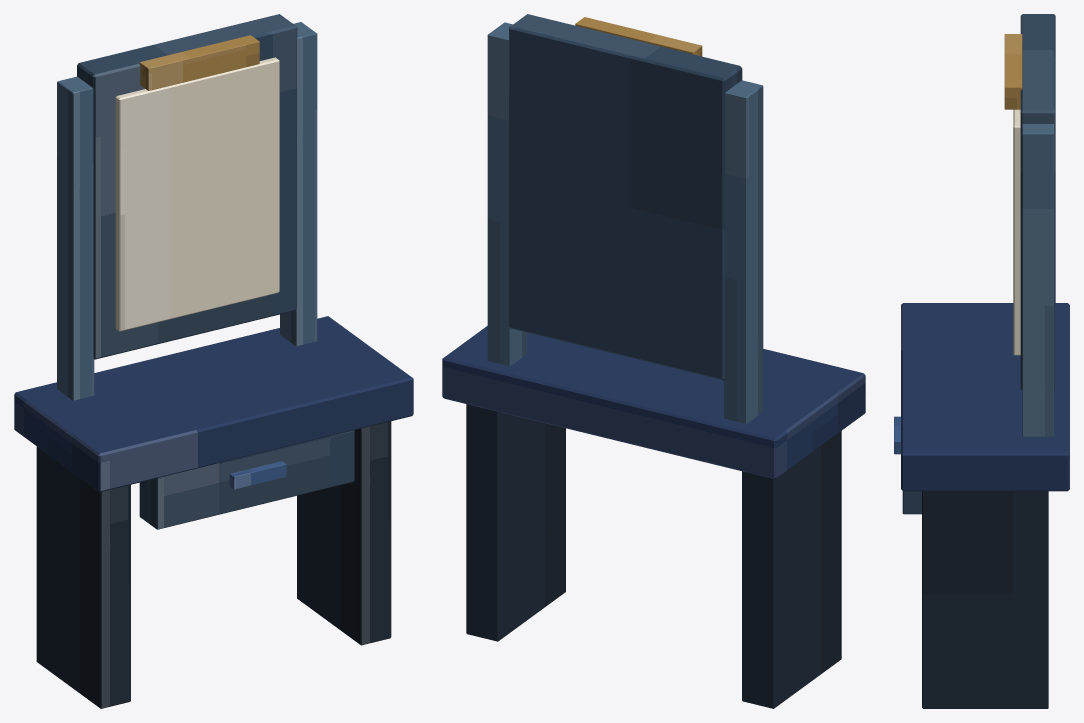
The model's file is bedroom_vanity_navy.glb.
The picture shows the model from 3 angles, left to right: view 1: azimuth 30°, elevation 25°; view 2: azimuth 150°, elevation 25°; view 3: azimuth 270°, elevation 25°; orthographic projection. The views are drawn at different scales.
Visible parts, largest first — view 1: VanityTop, VanityMirrorGlass, VanityLeg_L, VanityMirrorBack, VanityLeg_R, MirrorPost_L, VanityDrawer, MirrorPost_R, VanityAccent, VanityHandle; view 2: VanityMirrorBack, VanityTop, VanityLeg_L, VanityLeg_R, MirrorPost_L, MirrorPost_R, VanityAccent; view 3: VanityLeg_R, VanityTop, MirrorPost_R, VanityMirrorBack, VanityMirrorGlass, VanityAccent, VanityDrawer.
Part boxes in pixels (<box>): VanityTop: <box>14,316,413,492</box>; VanityMirrorGlass: <box>115,57,279,331</box>; VanityLeg_L: <box>36,446,130,708</box>; VanityMirrorBack: <box>77,14,297,359</box>; VanityLeg_R: <box>297,421,391,645</box>; MirrorPost_L: <box>57,76,94,400</box>; VanityDrawer: <box>139,430,354,529</box>; MirrorPost_R: <box>280,22,317,346</box>; VanityAccent: <box>139,35,259,90</box>; VanityHandle: <box>229,461,286,489</box>; VanityMirrorBack: <box>509,14,742,380</box>; VanityTop: <box>442,326,865,479</box>; VanityLeg_L: <box>742,431,841,708</box>; VanityLeg_R: <box>466,404,565,641</box>; MirrorPost_L: <box>724,80,763,423</box>; MirrorPost_R: <box>487,22,526,365</box>; VanityAccent: <box>575,17,702,56</box>; VanityLeg_R: <box>922,491,1048,708</box>; VanityTop: <box>901,303,1069,491</box>; MirrorPost_R: <box>1022,124,1053,436</box>; VanityMirrorBack: <box>1020,14,1055,390</box>; VanityMirrorGlass: <box>1013,109,1020,355</box>; VanityAccent: <box>1004,34,1022,109</box>; VanityDrawer: <box>902,491,921,514</box>.
Size of the model in its own units: 1.02 by 1.81 by 0.4995.
Materials: 1 (1 with a texture image).
